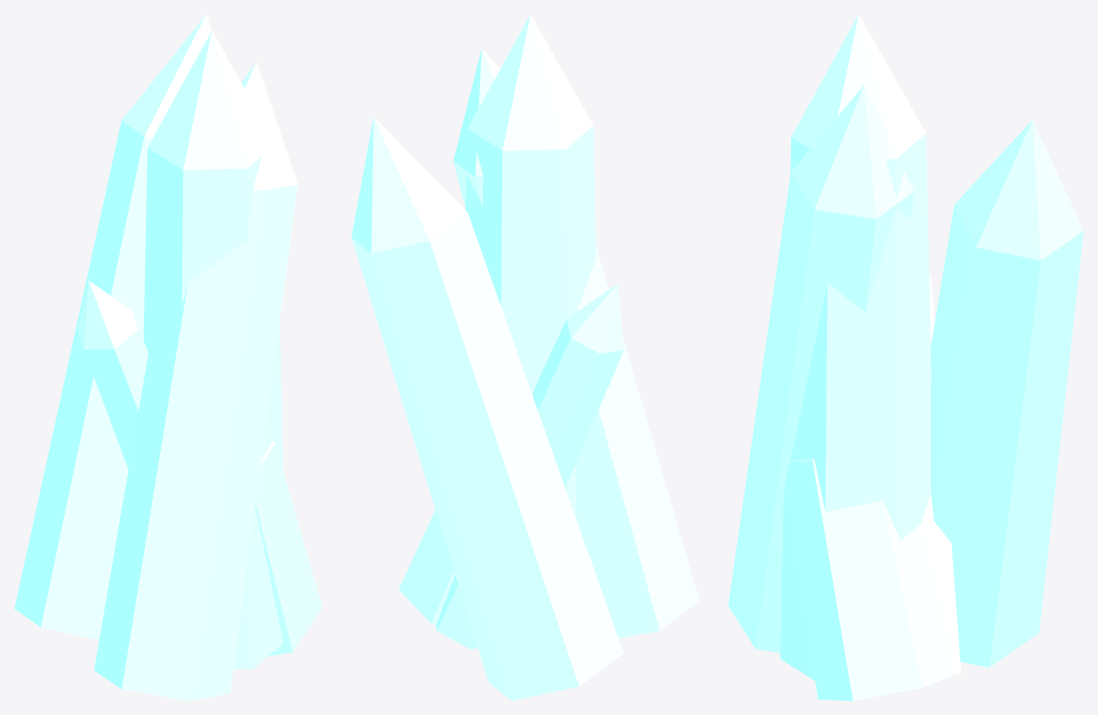
The model's file is crystals_b.glb.
3 renders of one model, left to right at view 1: azimuth 30°, elevation 25°; view 2: azimuth 150°, elevation 25°; view 3: azimuth 270°, elevation 25°, orthographic. The views are drawn at different scales.
Visible parts, largest first — view 1: crystals_b; view 2: crystals_b; view 3: crystals_b.
Part boxes in pixels (box(x1,y1,x2,y2)): crystals_b: box(14, 14, 322, 700); crystals_b: box(351, 14, 699, 700); crystals_b: box(728, 14, 1083, 700).
Size of the model in its own units: 2.22 by 5.58 by 2.7.
